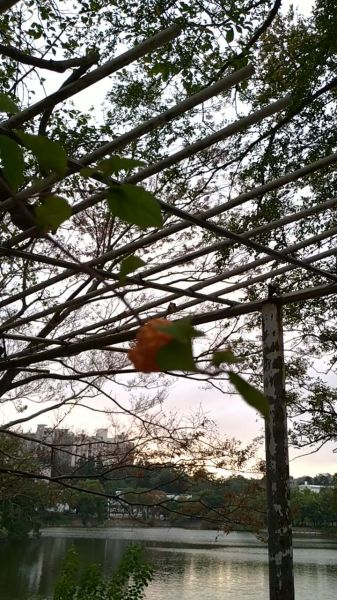eggs: (122, 316, 179, 374)
